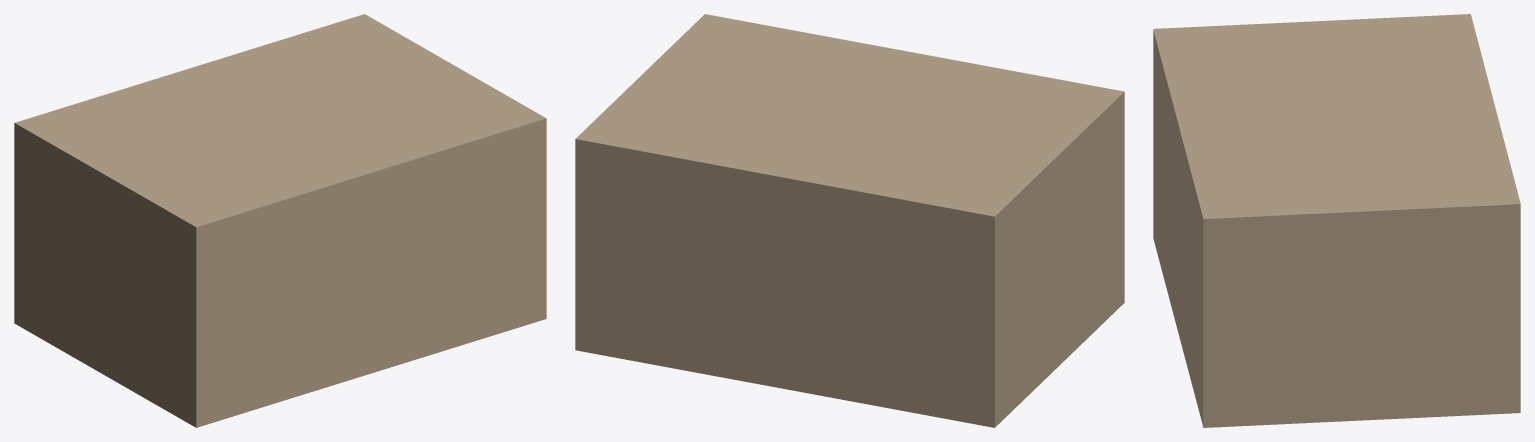
The model's file is bld_55878936.dae.
3 views of the same model, side by side, from view 1: azimuth 30°, elevation 25°; view 2: azimuth 150°, elevation 25°; view 3: azimuth 270°, elevation 25° (orthographic). The views are drawn at different scales.
Parts seen in each view (by area): view 1: bld_55878936; view 2: bld_55878936; view 3: bld_55878936.
Boxes of the visible parts, <box> form: bld_55878936: <box>14,14,546,427</box>; bld_55878936: <box>575,14,1124,427</box>; bld_55878936: <box>1153,14,1520,427</box>.
Size of the model in its own units: 16.84 by 12.76 by 8.
